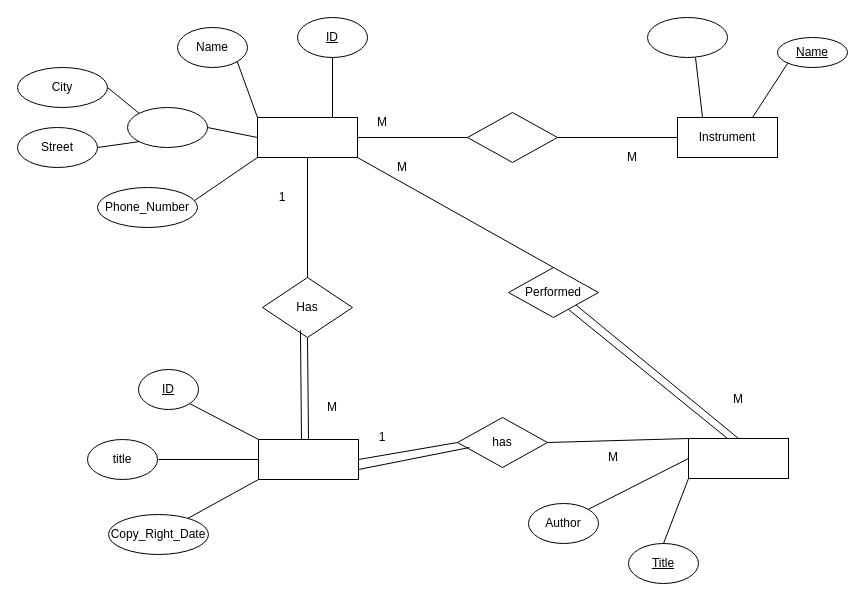
This 865x601 diagram has some shape labels left out. Here are the shapes that lost their labels. From the top down, the centre of each, then its label:
At (x=687, y=37): "Key".
At (x=167, y=127): "Address".
At (x=307, y=137): "Musicana".
At (x=512, y=137): "Plays".
At (x=308, y=459): "Album".
At (x=738, y=458): "Songs".
